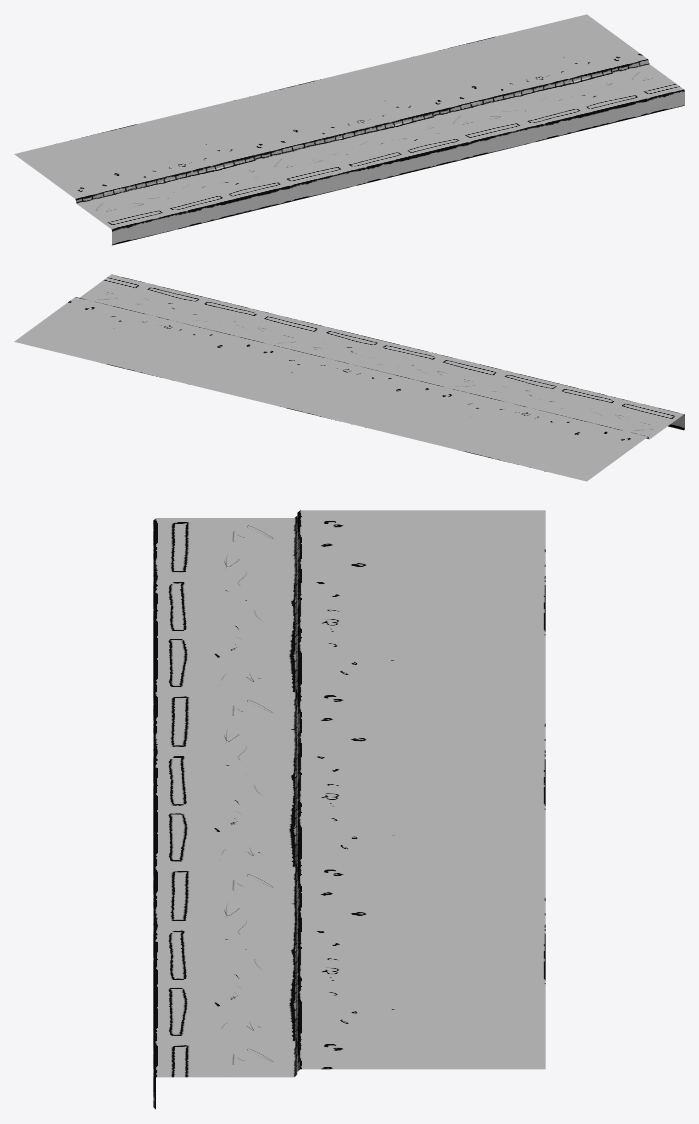
Rendered from SM_Ground_Graveyard.fbx.
3 views of the same model, one above another, from view 1: azimuth 30°, elevation 25°; view 2: azimuth 150°, elevation 25°; view 3: azimuth 270°, elevation 25° (orthographic). The views are drawn at different scales.
Visible parts, largest first — view 1: Box054; view 2: Box054; view 3: Box054.
Boxes of the visible parts, x1,y1,x2,y2 form: Box054: (14, 14, 684, 245); Box054: (14, 274, 684, 481); Box054: (153, 510, 545, 1109).
Size of the model in its own units: 2576 by 86.66 by 764.
